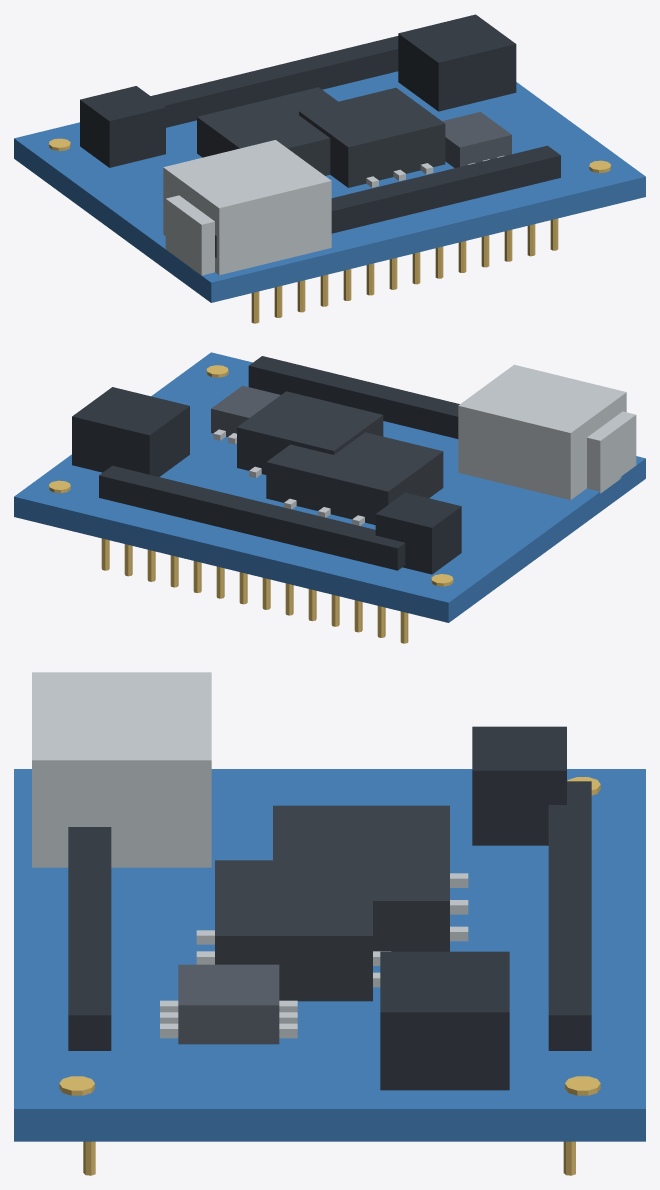
The model's file is product-1.glb.
The picture shows the model from 3 angles, top to bottom: view 1: azimuth 30°, elevation 25°; view 2: azimuth 150°, elevation 25°; view 3: azimuth 270°, elevation 25°; orthographic projection. The views are drawn at different scales.
Visible parts, largest first — view 1: product-1; view 2: product-1; view 3: product-1.
Part boxes in pixels (x1,y1,x2,y2): product-1: (14, 14, 645, 323); product-1: (14, 352, 645, 643); product-1: (14, 672, 645, 1175).
Bounding box in the file's own units: 1.12 × 0.345 × 0.88.
